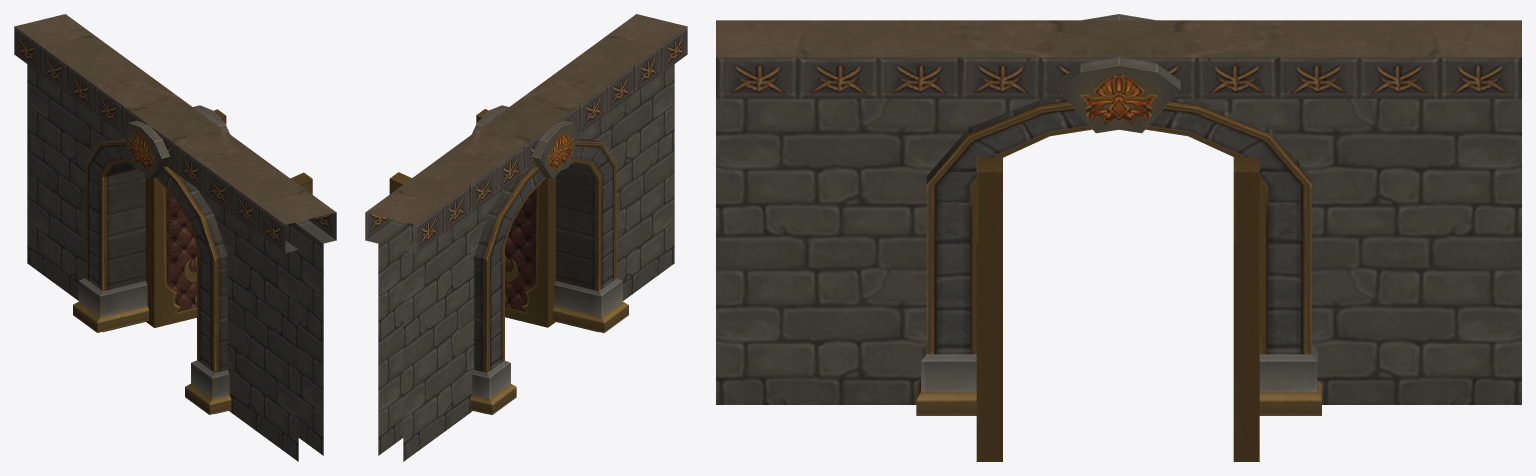
File: Battle06_Wall_015.FBX
The picture shows the model from 3 angles, left to right: view 1: azimuth 30°, elevation 25°; view 2: azimuth 150°, elevation 25°; view 3: azimuth 270°, elevation 25°; orthographic projection. The views are drawn at different scales.
Parts seen in each view (by area): view 1: Battle06_Wall_015; view 2: Battle06_Wall_015; view 3: Battle06_Wall_015.
Boxes of the visible parts, x1=… form: Battle06_Wall_015: x1=14, y1=14, x2=336, y2=461; Battle06_Wall_015: x1=365, y1=14, x2=687, y2=461; Battle06_Wall_015: x1=716, y1=14, x2=1521, y2=461.
Bounding box in the file's own units: 4.98 × 9.3 × 18.95.
